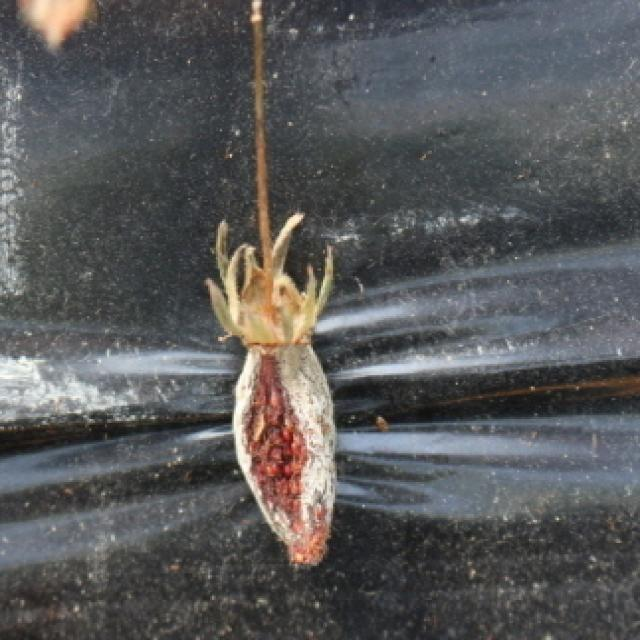Gray Mold: (207, 211, 338, 568)
